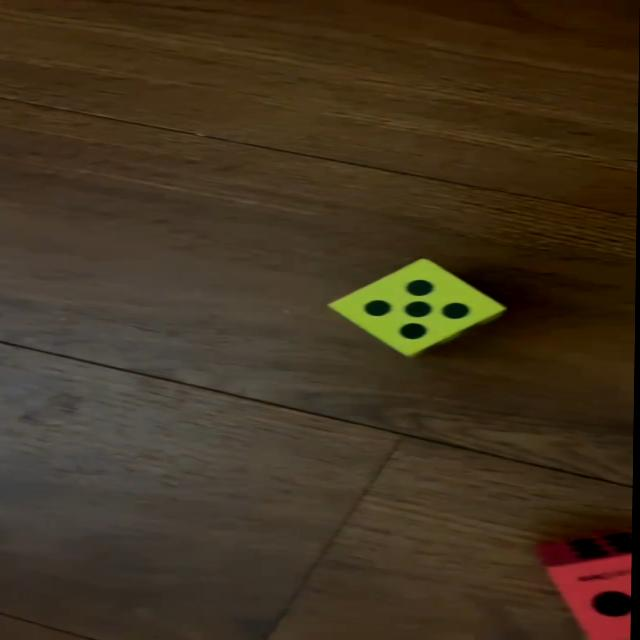cube: (537, 531, 634, 640)
